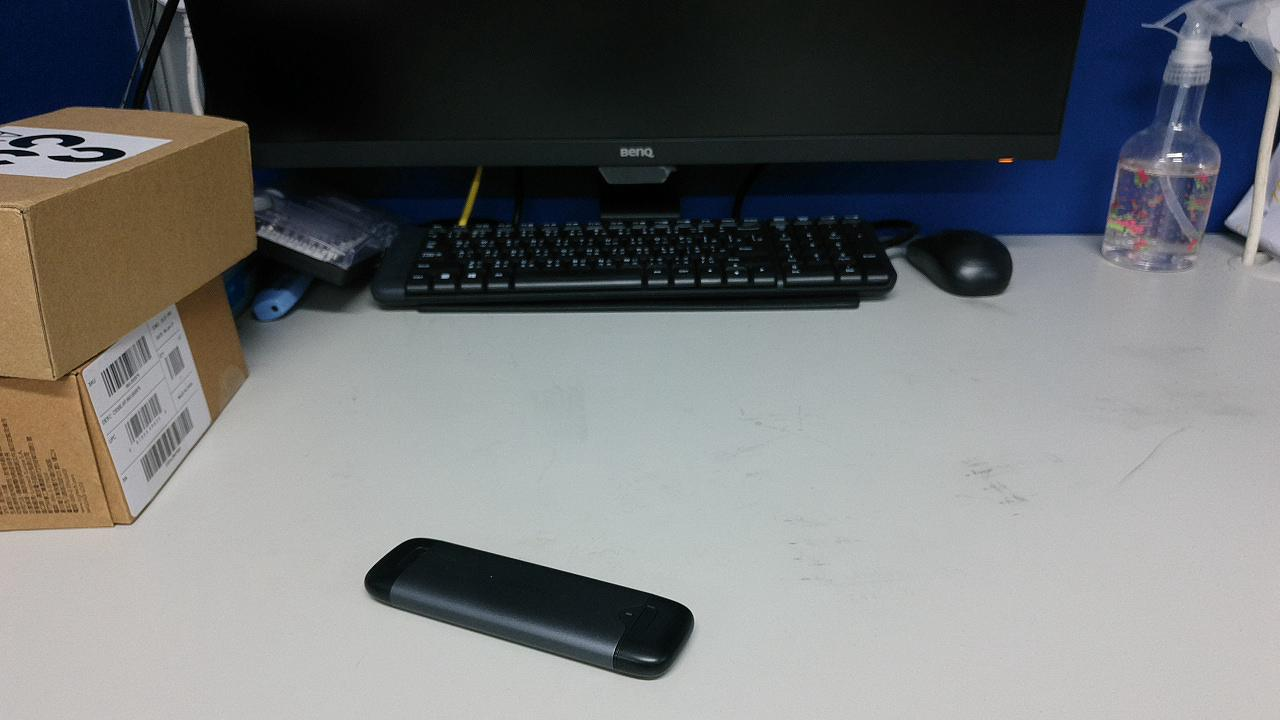blade: (350, 423, 377, 487)
grasp: (312, 372, 405, 422)
